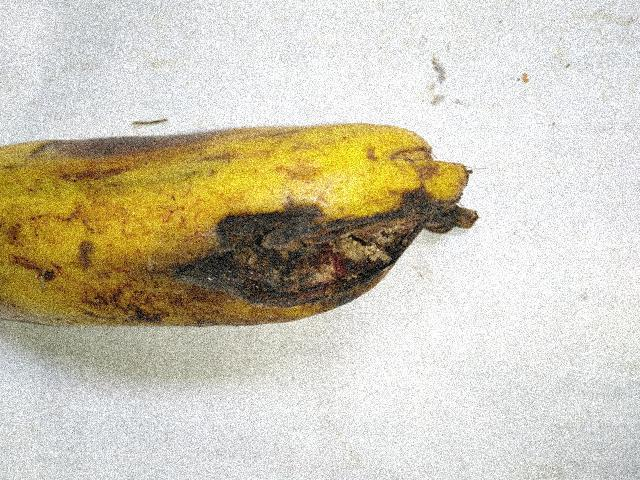ripe: (0, 108, 466, 344)
rotten: (144, 181, 492, 344), (17, 86, 234, 169)
